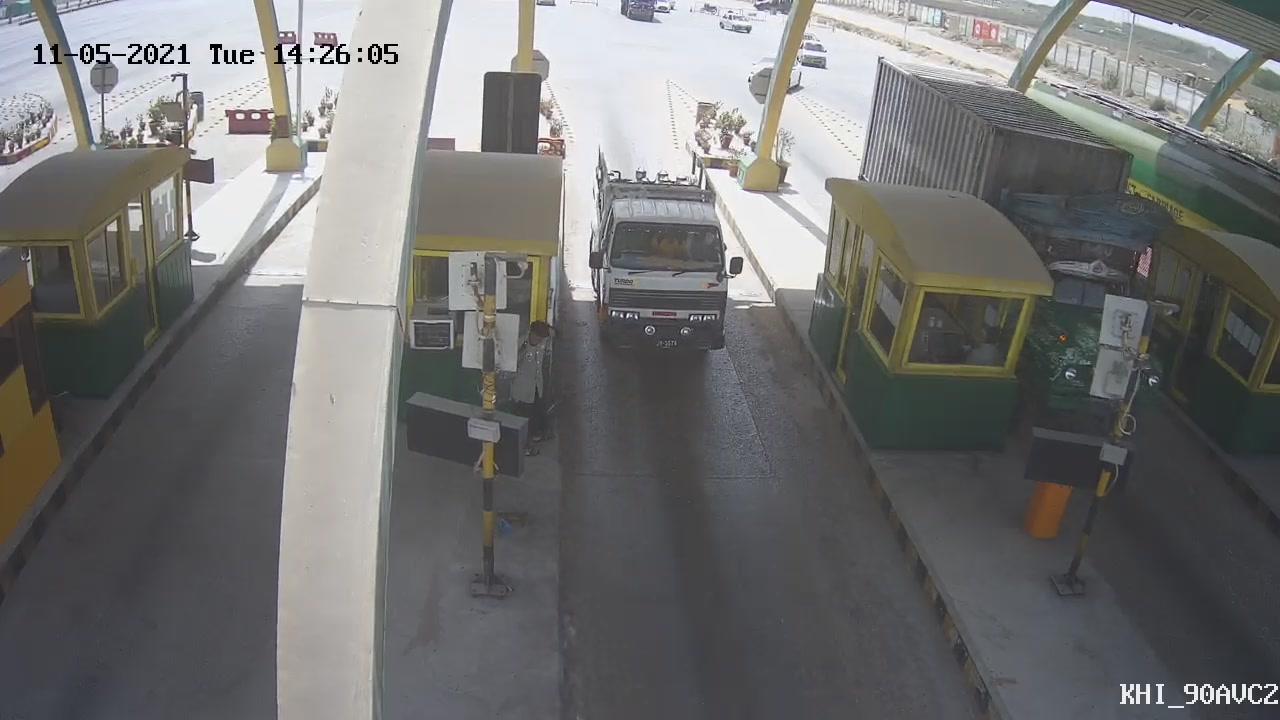F5: (582, 134, 750, 369)
